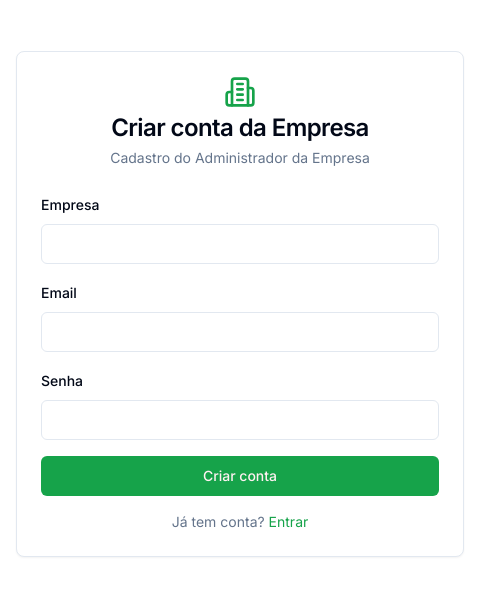
CompanyAdminRegisterPage › shows the backend's 409 error message and keeps the entered fields
The width and height of the screenshot is (481, 609).
In the field labelled "Empresa": x=240, y=244 [41,224,439,264], type "Acme Inc"
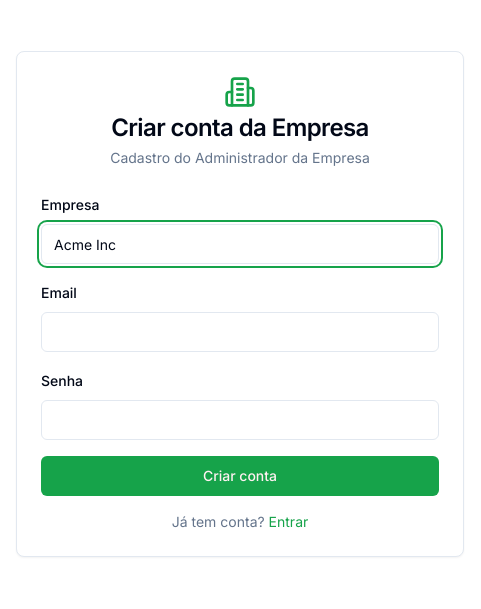
In the field labelled "Email": x=240, y=332 [41,312,439,352], type "admin@acme.com"
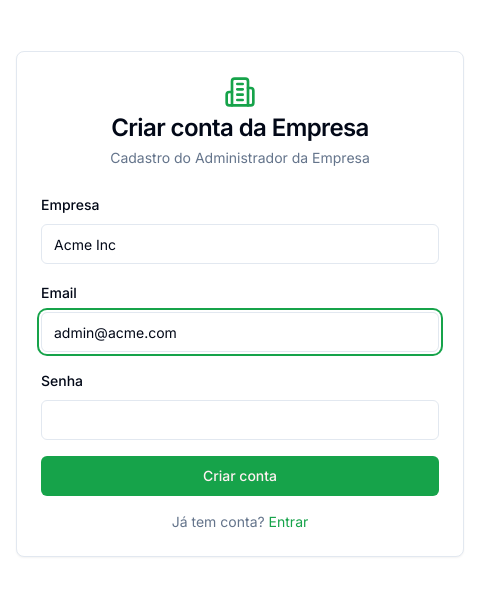
In the password field labelled "Senha": x=240, y=420 [41,400,439,440], type "supersecret"
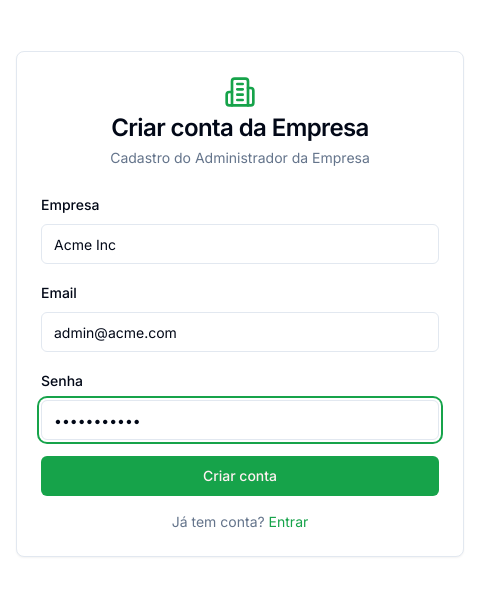
Click the button "Criar conta": x=240, y=476 [41,456,439,496]
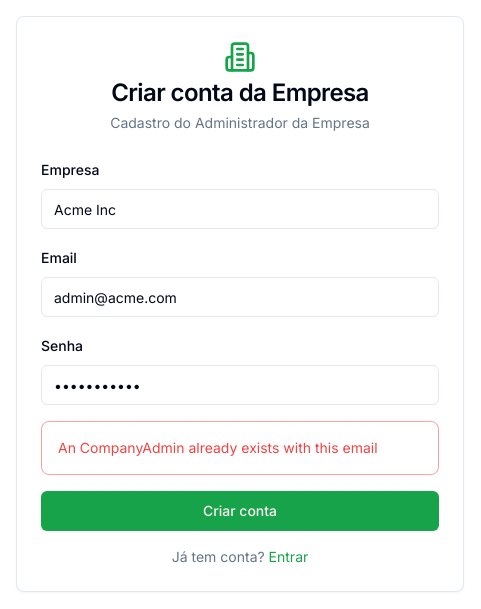
Expected: the text "An CompanyAdmin already exists with this email" is shown, [58,438,422,458]
